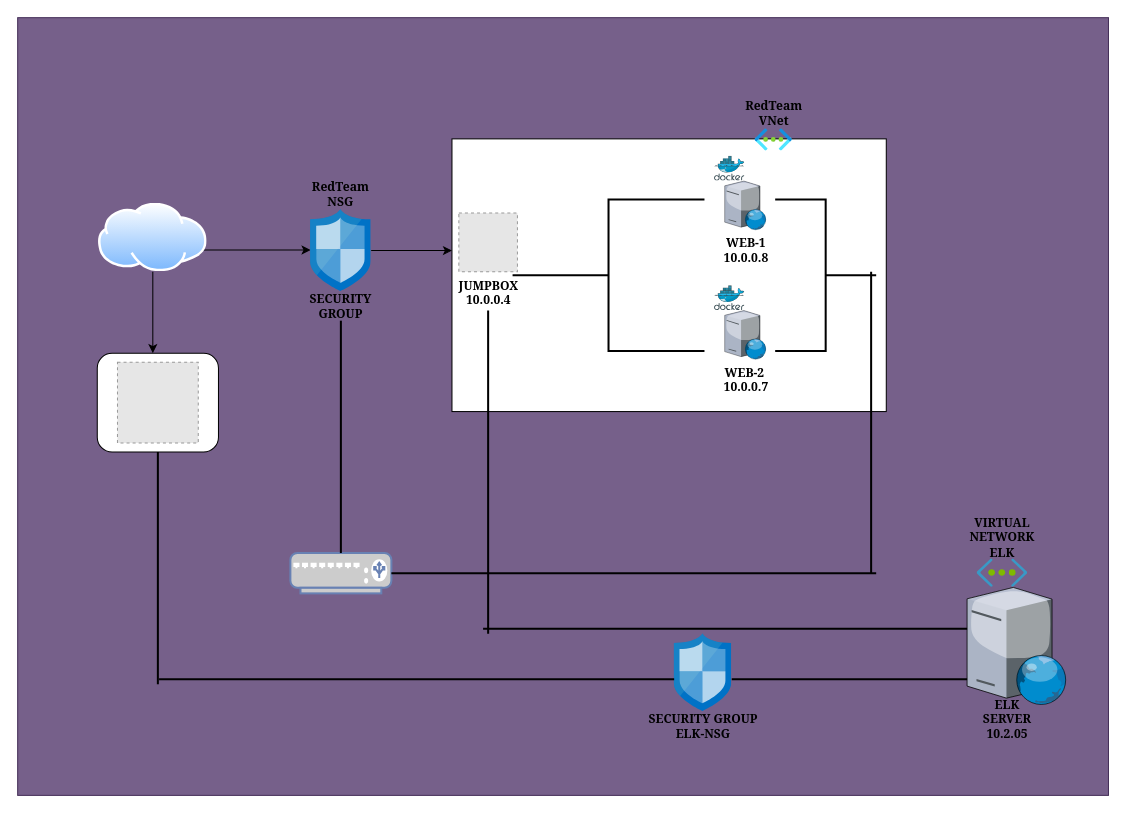
Some shapes in this 1126 by 821 pixel diagram are drawn without their labels. Grey dashed boxes stand in for pictures. The centre of each missing label's shape, as x and y in pixels:
"INTERNET" belongs at (152,237).
"LOAD BALANCER" belongs at (340,572).
